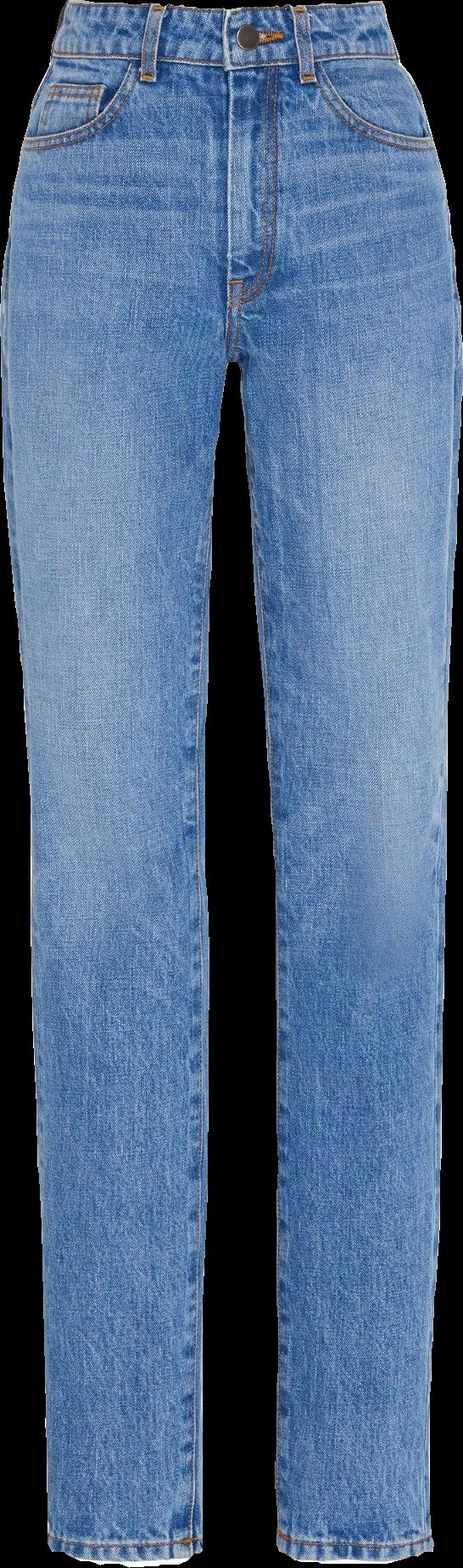Hemline: (269, 1533, 443, 1567), (47, 1533, 205, 1566)
Pantleg: (220, 0, 462, 1562), (1, 0, 230, 1563)
Waistline: (47, 47, 410, 78), (58, 0, 391, 23)
